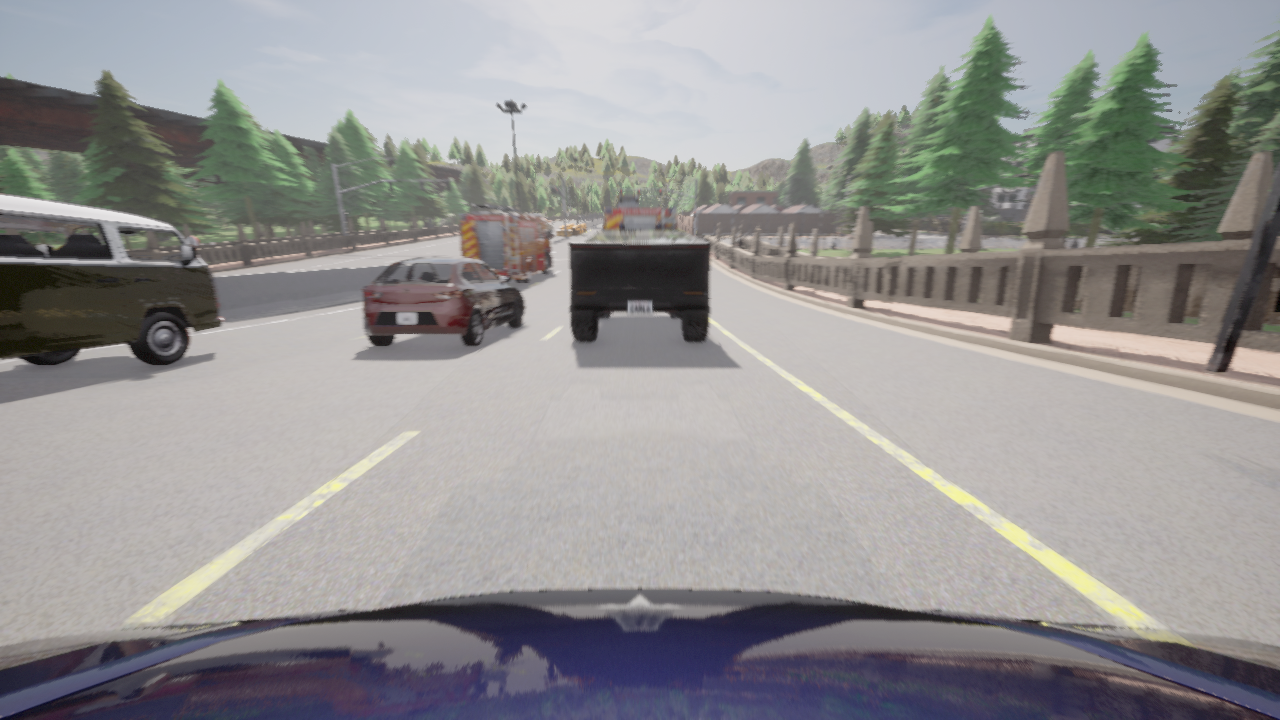cyclist: (0, 588, 1279, 719), (569, 230, 710, 340), (362, 257, 523, 346), (460, 204, 553, 282), (603, 194, 677, 229)
pedestrian: (737, 235, 744, 249)
